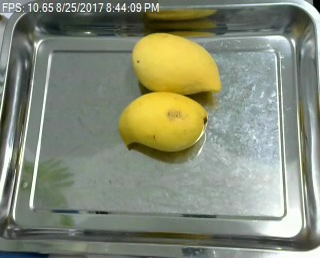Mango: (129, 29, 225, 101), (117, 89, 210, 159)
